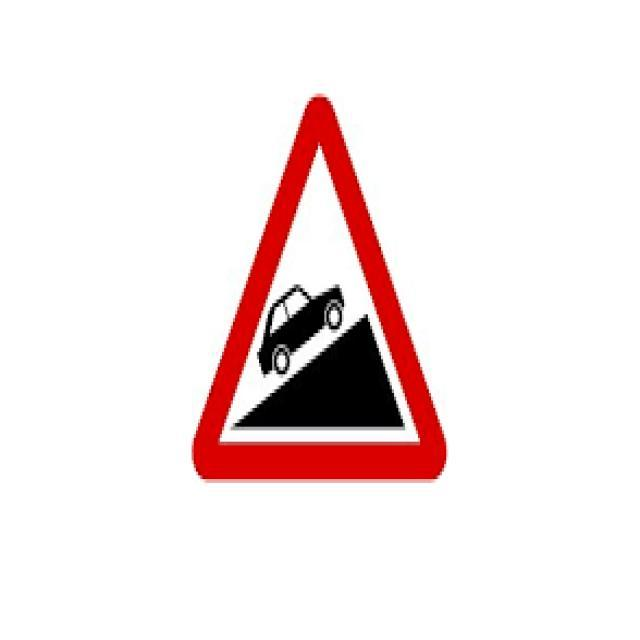steep ascent: (192, 88, 446, 487)
